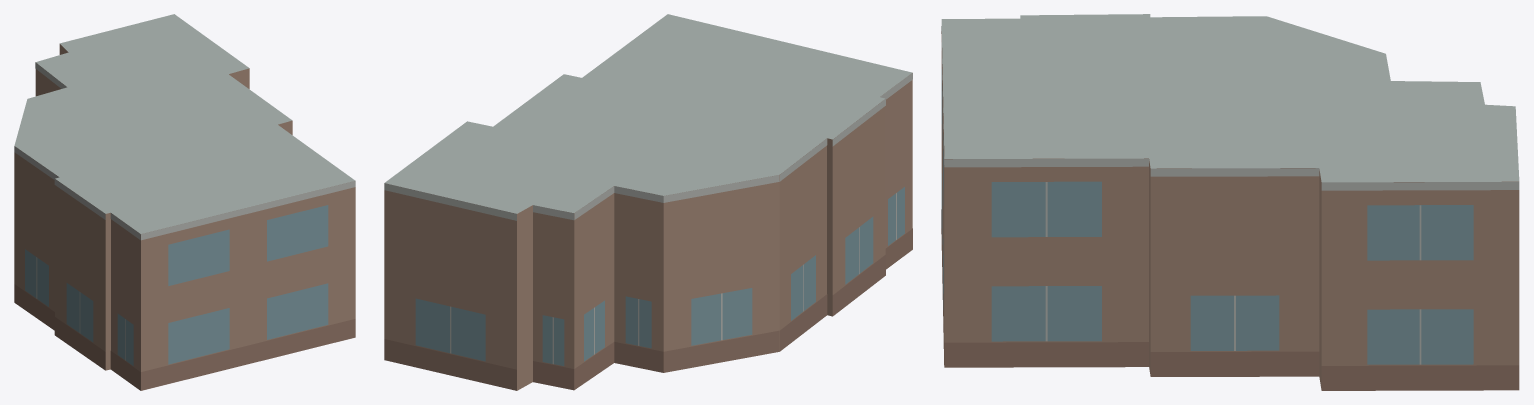
File: survey-upis-32620791.glb
3 views of the same model, side by side, from view 1: azimuth 30°, elevation 25°; view 2: azimuth 150°, elevation 25°; view 3: azimuth 270°, elevation 25° (orthographic). The views are drawn at different scales.
Visible parts, largest first — view 1: survey-upis-32620791.tmp; view 2: survey-upis-32620791.tmp; view 3: survey-upis-32620791.tmp.
Part boxes in pixels (bbox=[...]): survey-upis-32620791.tmp: bbox=[14, 14, 355, 390]; survey-upis-32620791.tmp: bbox=[384, 14, 912, 390]; survey-upis-32620791.tmp: bbox=[941, 14, 1519, 390].
Bounding box in the file's own units: 10.57 × 6.1 × 15.33.
